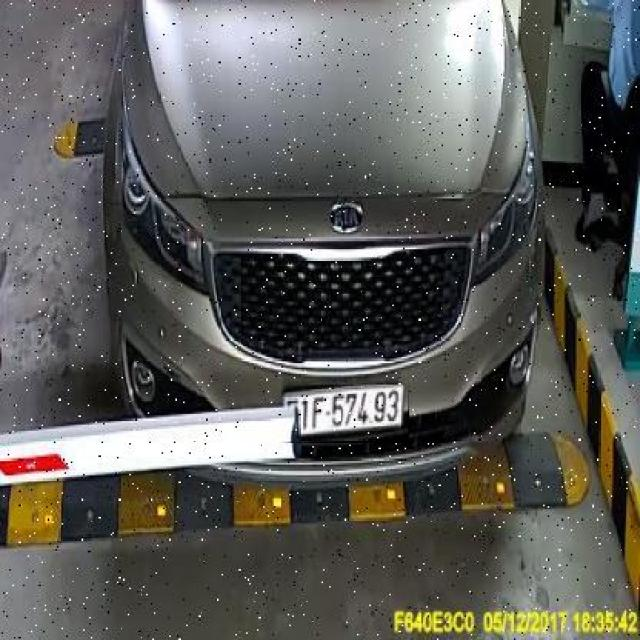number_plate: (280, 385, 409, 443)
